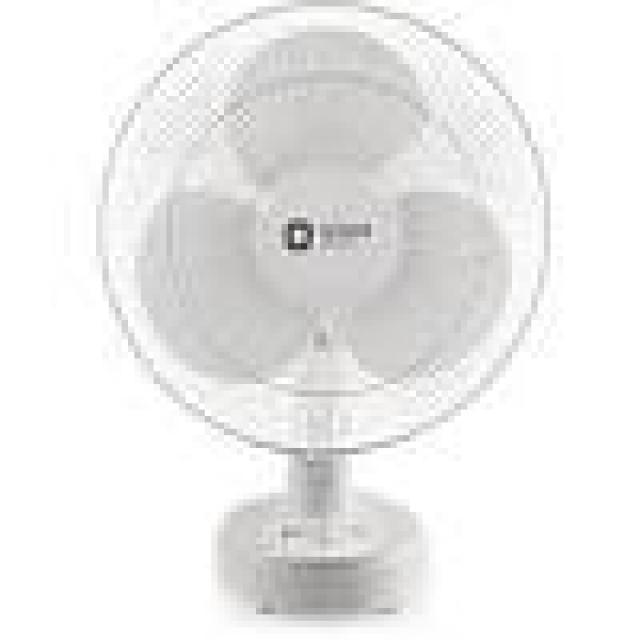fan: (96, 0, 544, 621)
